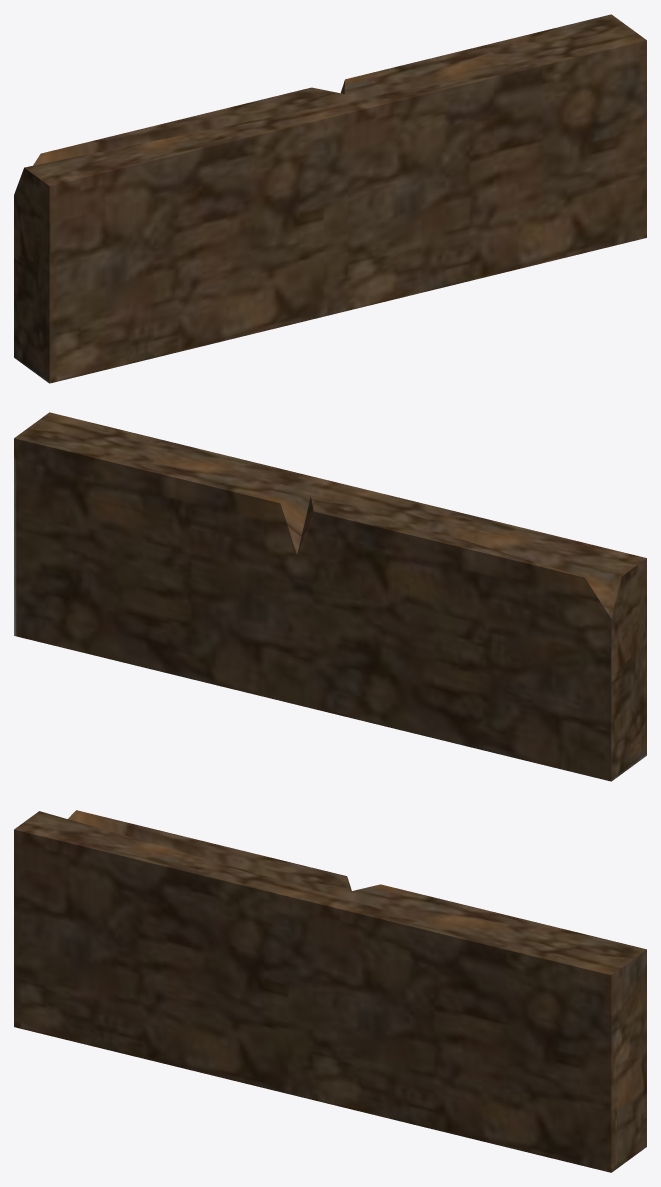
File: stone wall3.fbx
The picture shows the model from 3 angles, top to bottom: view 1: azimuth 30°, elevation 25°; view 2: azimuth 150°, elevation 25°; view 3: azimuth 330°, elevation 25°; orthographic projection.
Visible parts, largest first — view 1: Cube.002; view 2: Cube.002; view 3: Cube.002.
Part boxes in pixels (bbox=[...]): Cube.002: bbox=[14, 14, 646, 383]; Cube.002: bbox=[14, 412, 646, 781]; Cube.002: bbox=[14, 810, 646, 1172].
Bounding box in the file's own units: 398 × 126 × 40.98.
1 material, 1 textured.
